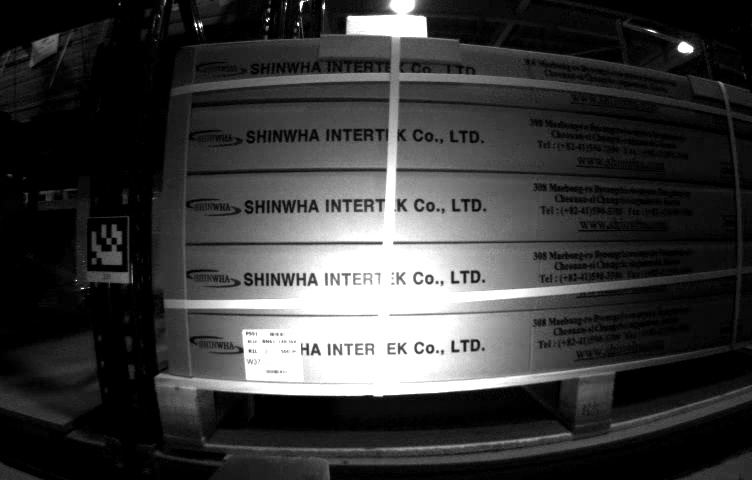True Barcode: (243, 328, 304, 380)
